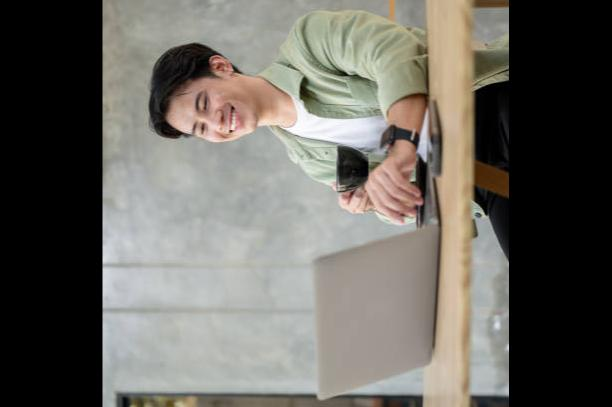Non_Gorille: (103, 33, 412, 266)
